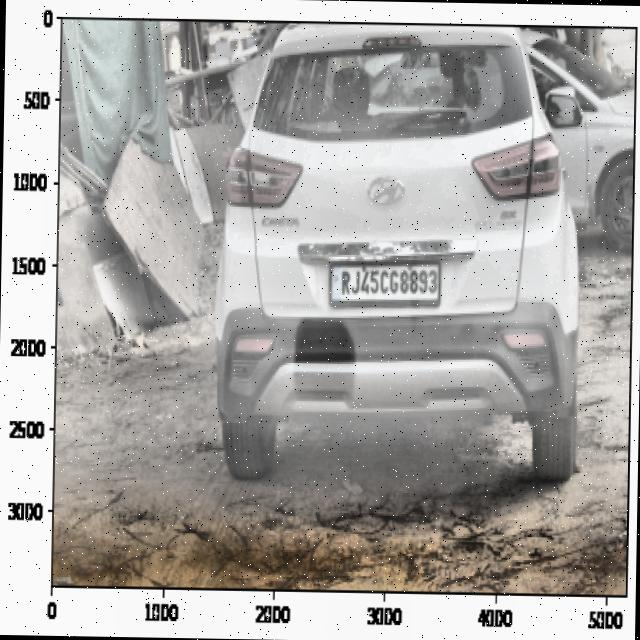license_plate: (336, 264, 443, 302)
